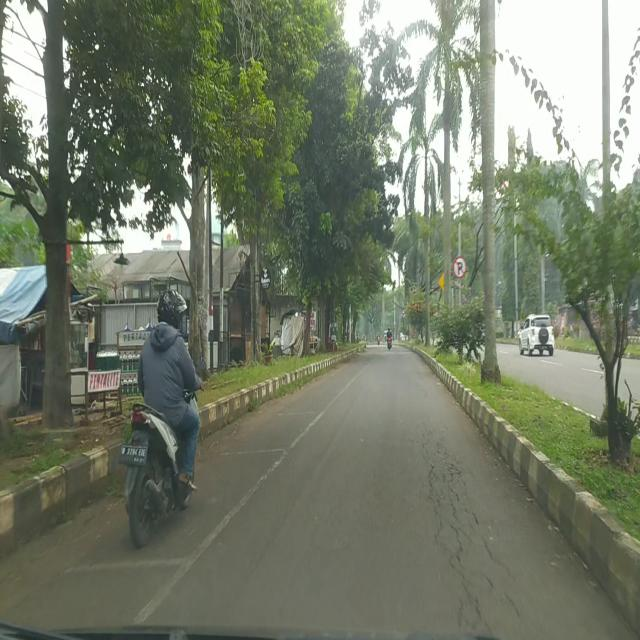Drain Hole: (420, 431, 515, 632)
